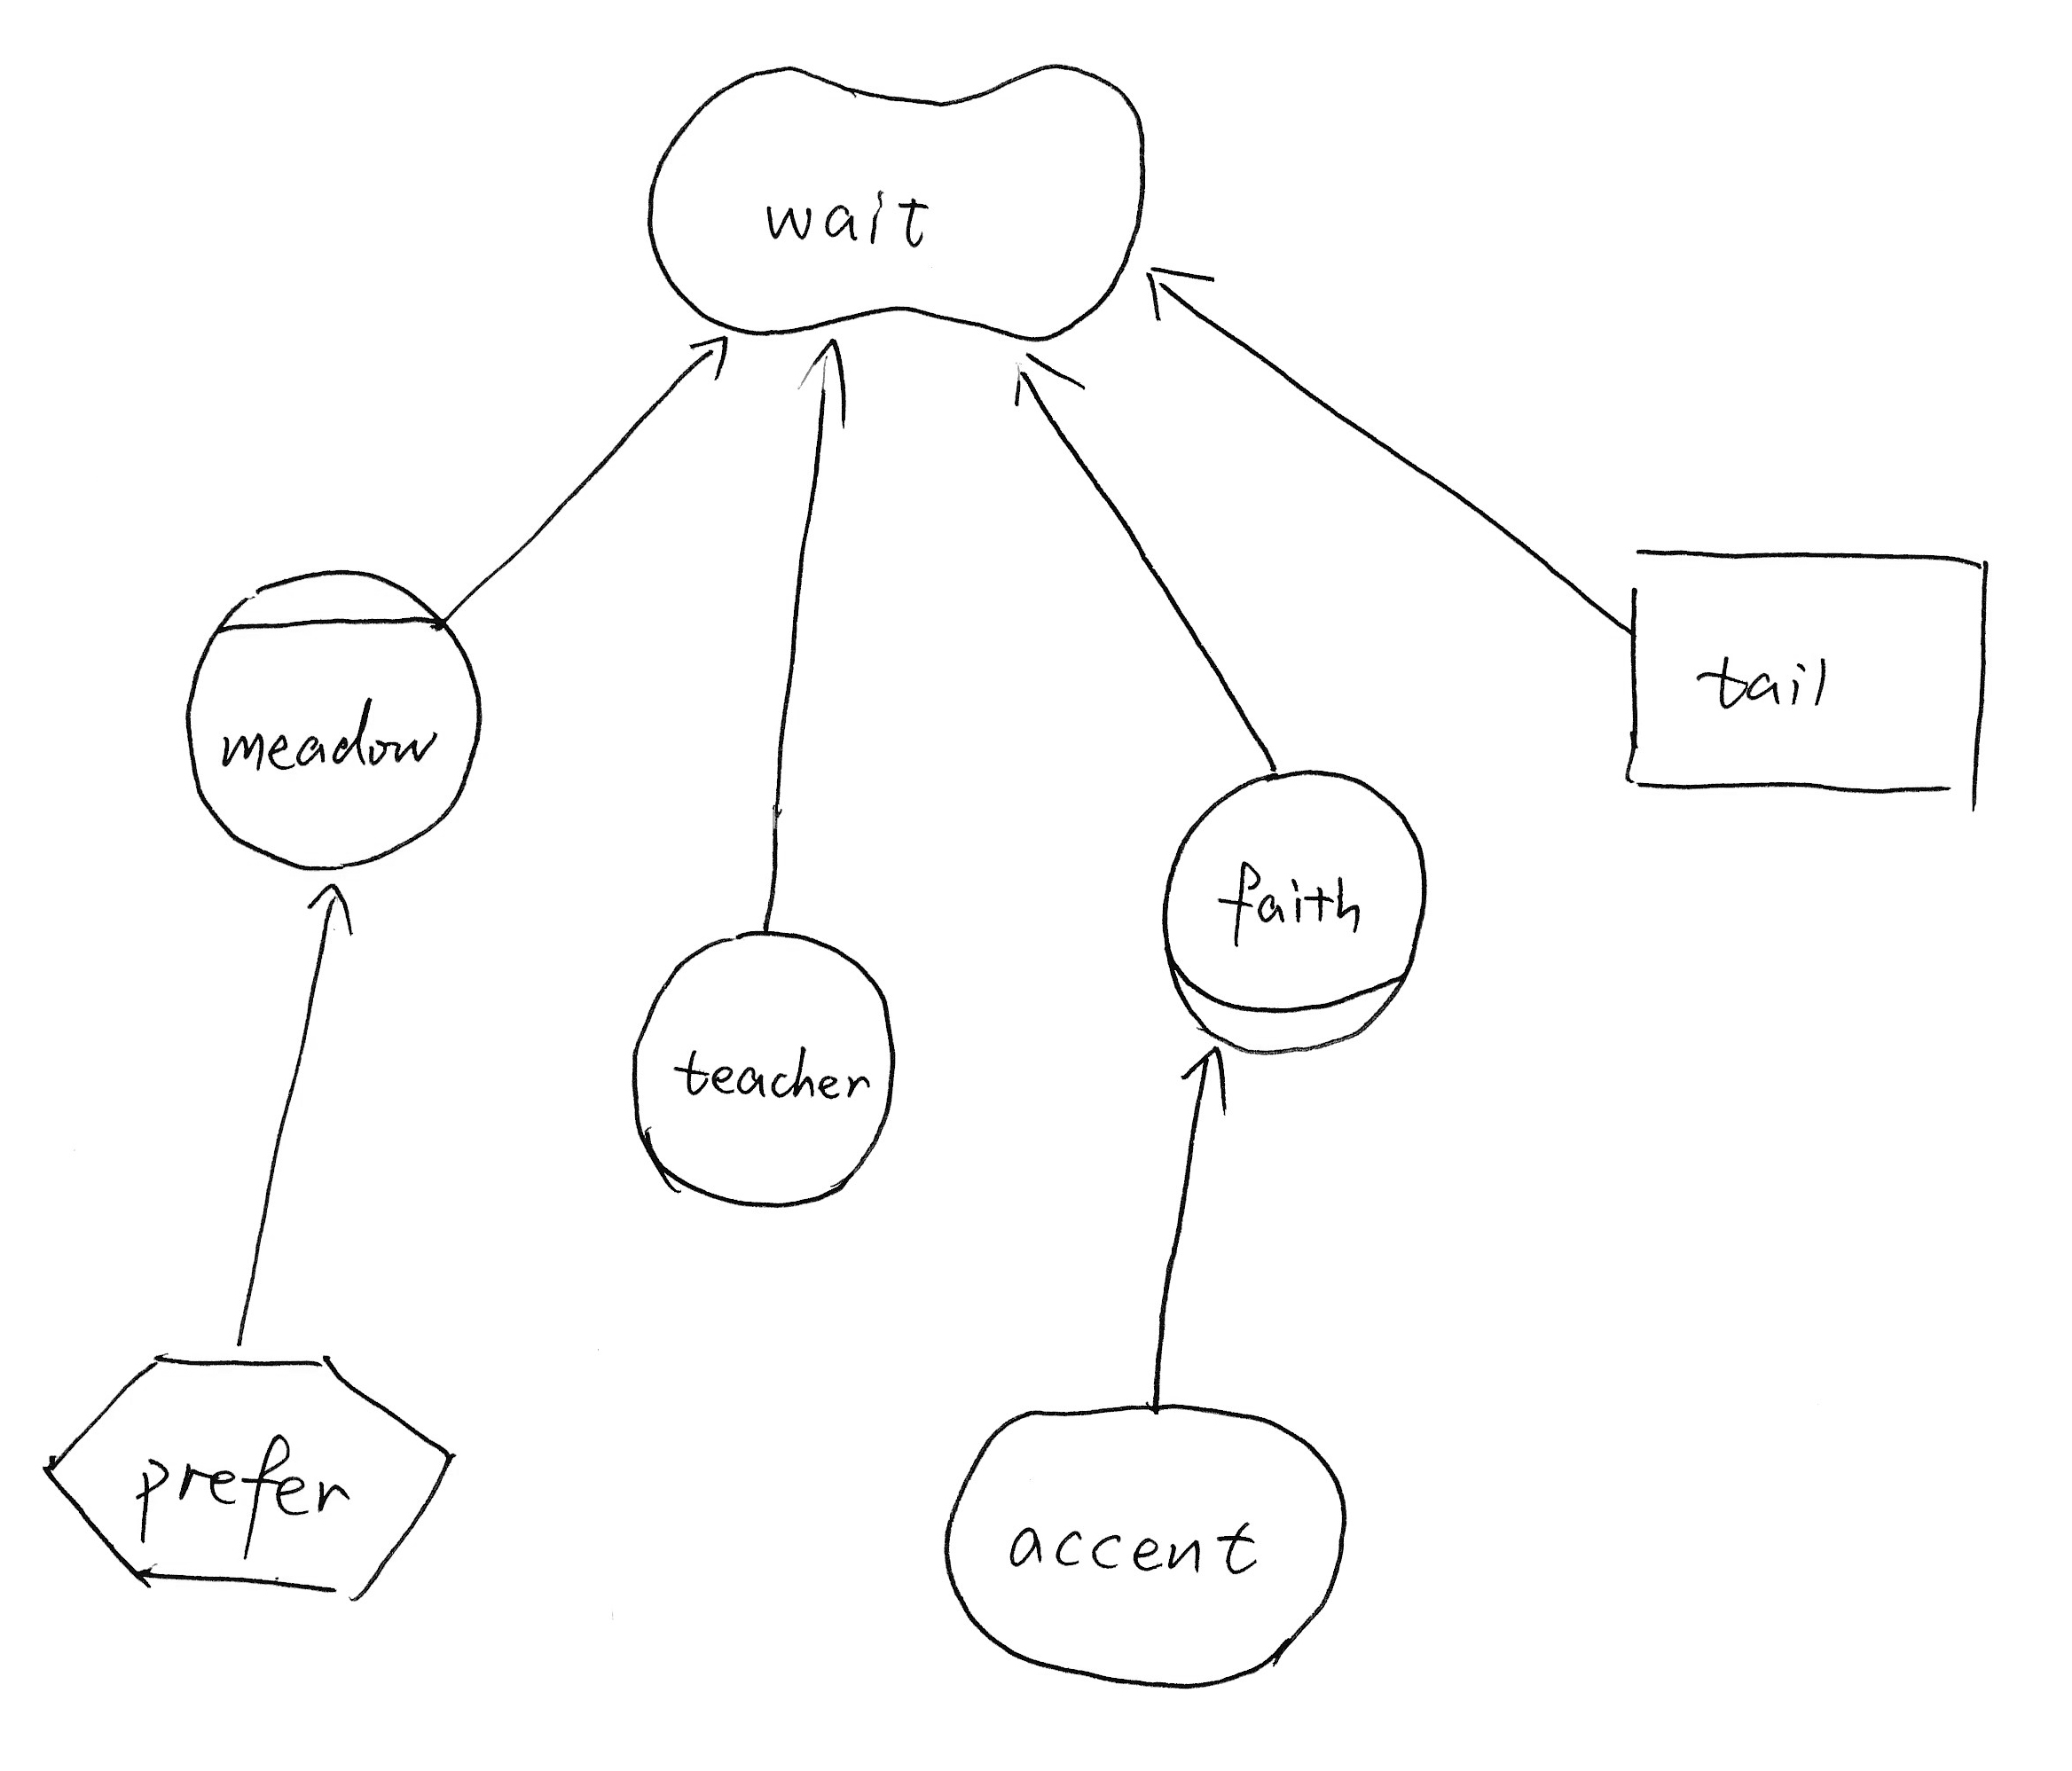actor: (606, 912, 917, 1230)
agent: (172, 552, 497, 891)
arrow: (988, 334, 1091, 429), (786, 332, 875, 434), (1137, 251, 1225, 336), (293, 864, 374, 943), (1167, 1038, 1241, 1124), (673, 322, 747, 404)
goal: (924, 1388, 1366, 1701)
quality: (629, 49, 1170, 353)
resource: (1597, 517, 2007, 828)
role: (1149, 757, 1439, 1073)
task: (19, 1332, 473, 1616)
